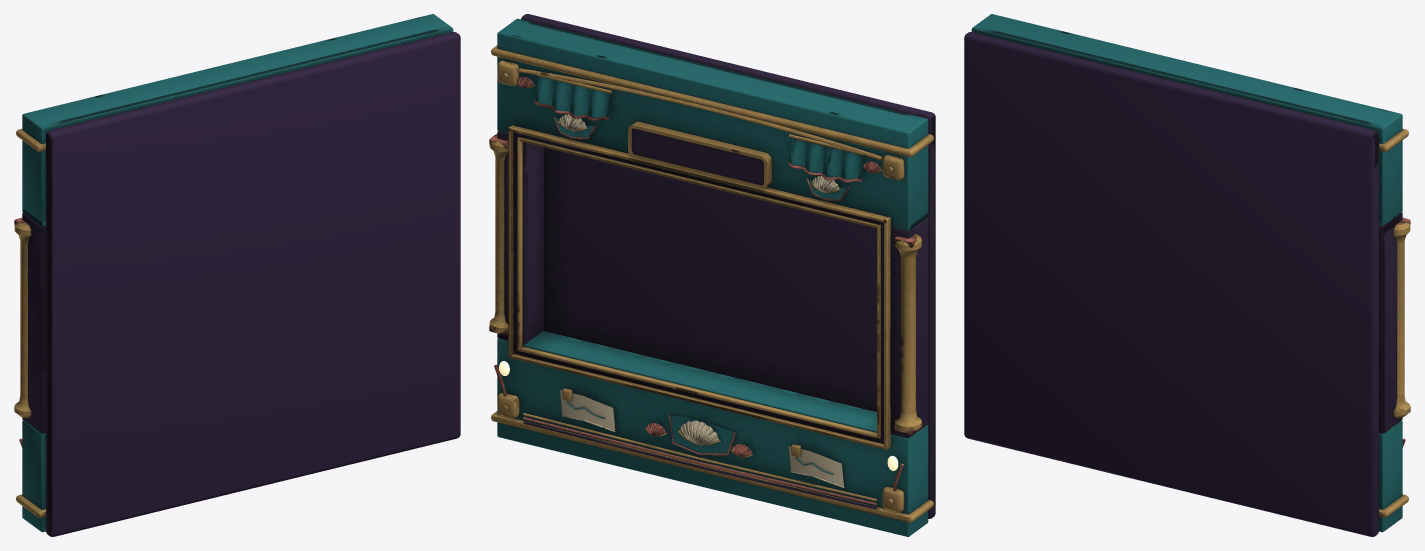
3 views of the same model, side by side, from view 1: azimuth 30°, elevation 25°; view 2: azimuth 150°, elevation 25°; view 3: azimuth 330°, elevation 25° (orthographic).
Parts seen in each view (by area): view 1: Deep_violet_enamel, Woven_teal_canvas, Tidal_brass; view 2: Deep_violet_enamel, Woven_teal_canvas, Tidal_brass, Ivory_shell_and_route_paper, Coral_specimen; view 3: Deep_violet_enamel, Woven_teal_canvas, Tidal_brass.
Boxes of the visible parts, x1,y1,x2,y2 form: Deep_violet_enamel: [22, 32, 460, 536]; Woven_teal_canvas: [22, 14, 453, 532]; Tidal_brass: [14, 129, 45, 517]; Deep_violet_enamel: [497, 14, 935, 518]; Woven_teal_canvas: [497, 18, 928, 536]; Tidal_brass: [489, 45, 933, 522]; Ivory_shell_and_route_paper: [559, 114, 844, 487]; Coral_specimen: [489, 76, 916, 505]; Deep_violet_enamel: [964, 32, 1402, 536]; Woven_teal_canvas: [971, 14, 1402, 532]; Tidal_brass: [1379, 129, 1410, 517].
Bounding box in the file's own units: 9.86 × 8.9 × 1.48.
6 materials, 5 textured.
